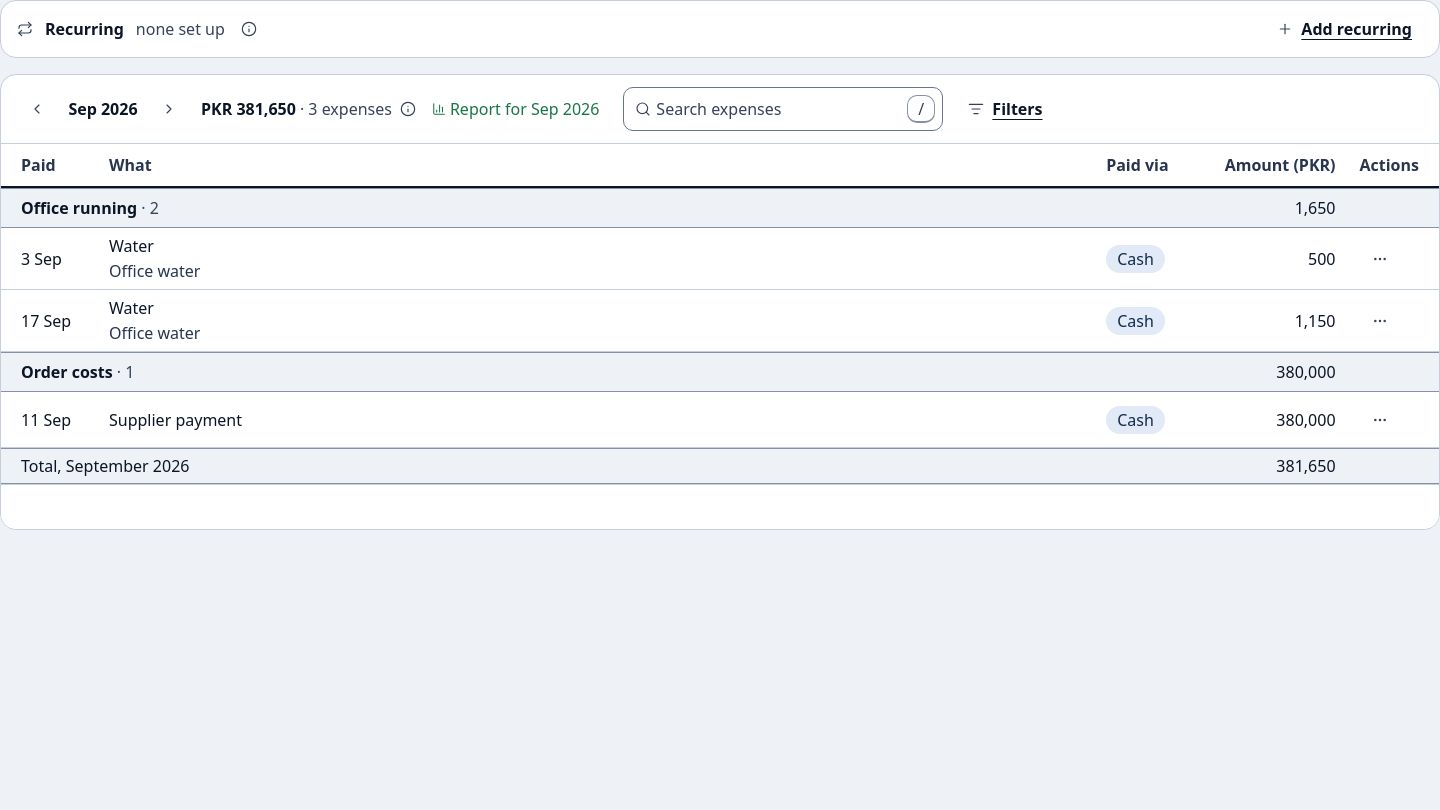
Scenario: Expenses list (0086) › a refused delete shows the server sentence and keeps the row
The width and height of the screenshot is (1440, 810).
Expected: the element with test id "expenses-month-total" is shown, [201,97,420,121]
Click the button named "More for Water of 500".
click(1380, 258)  # box [1360,238,1400,278]
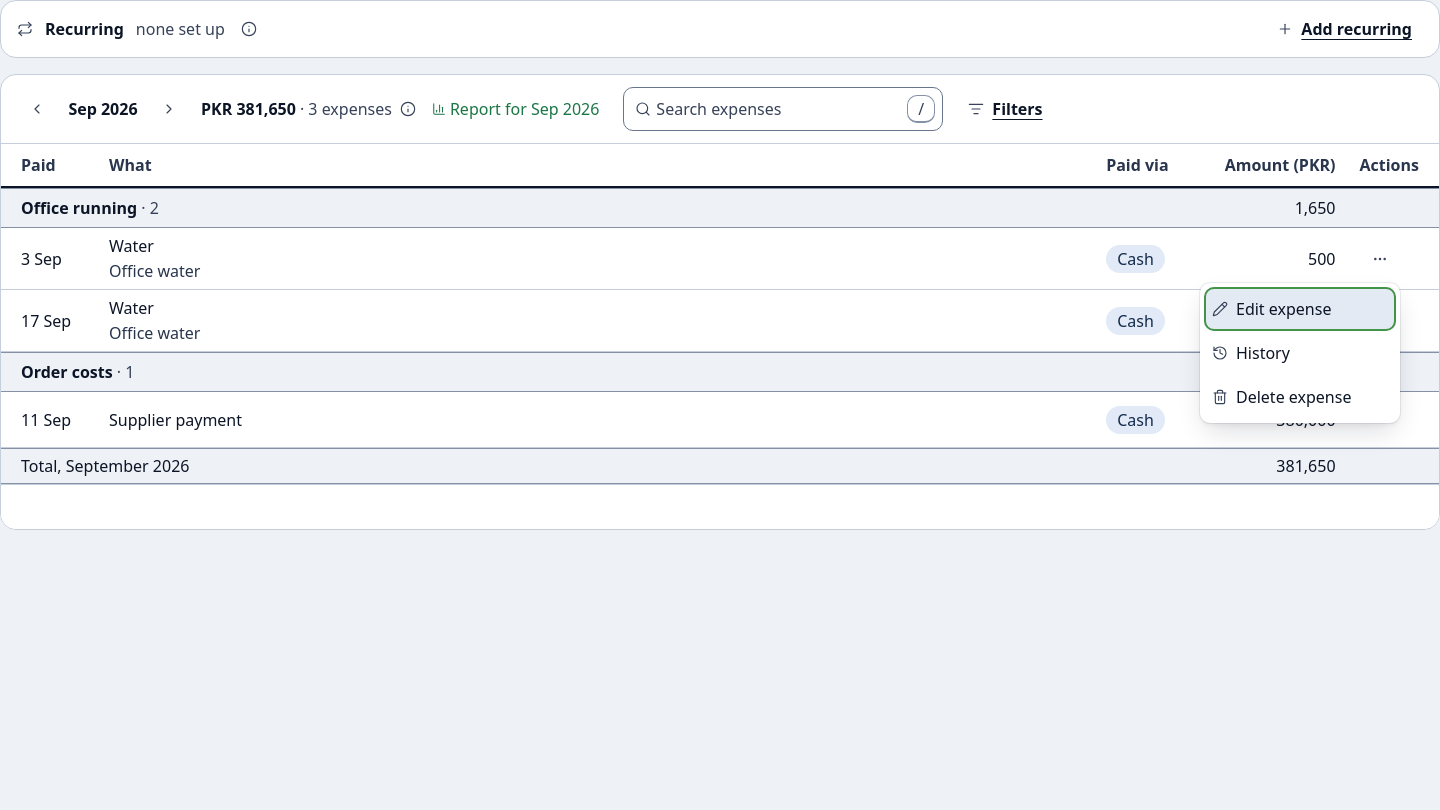
Click the menu item "Delete expense".
click(1300, 397)  # box [1204,375,1396,419]
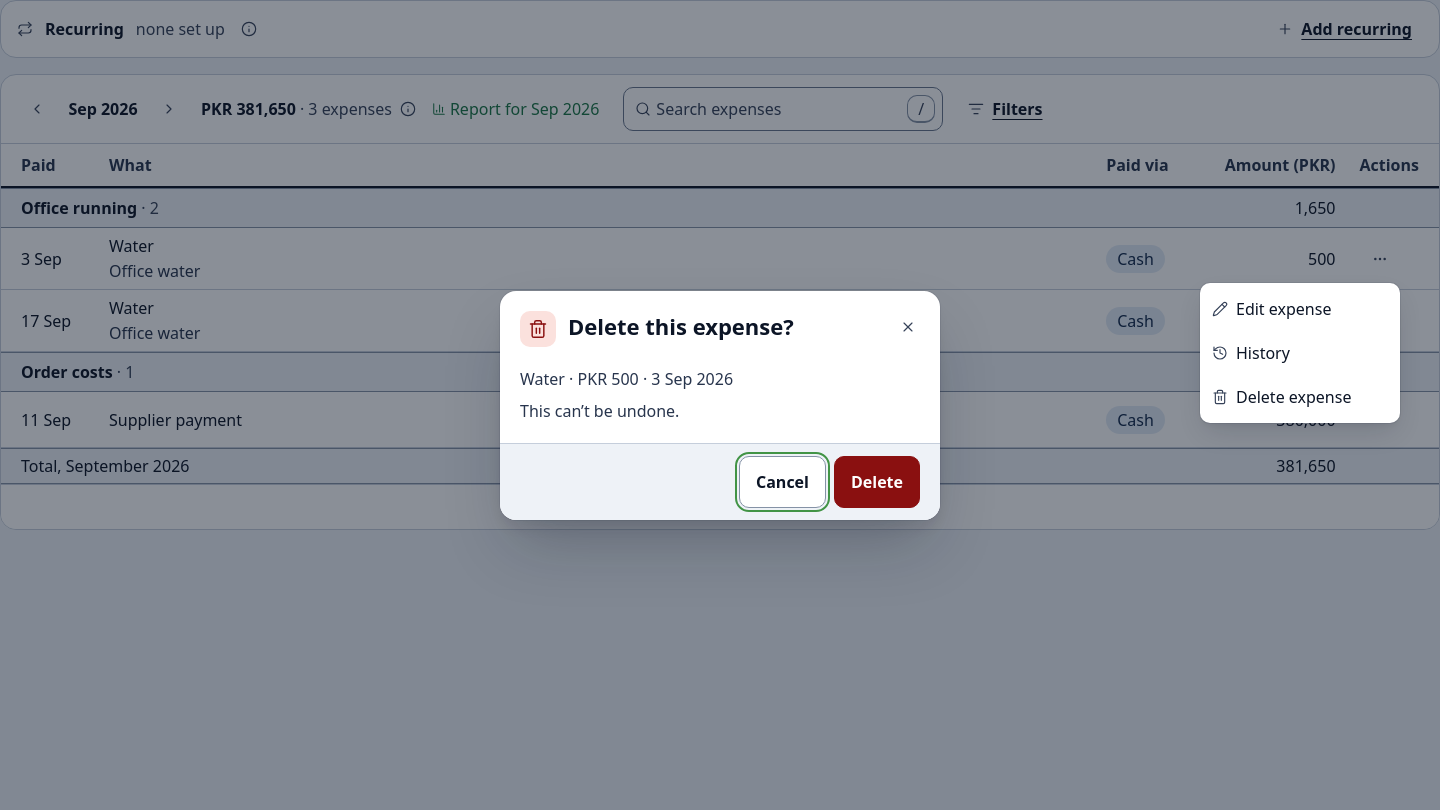
Click the button "Delete".
click(877, 482)  # box [834,456,920,508]
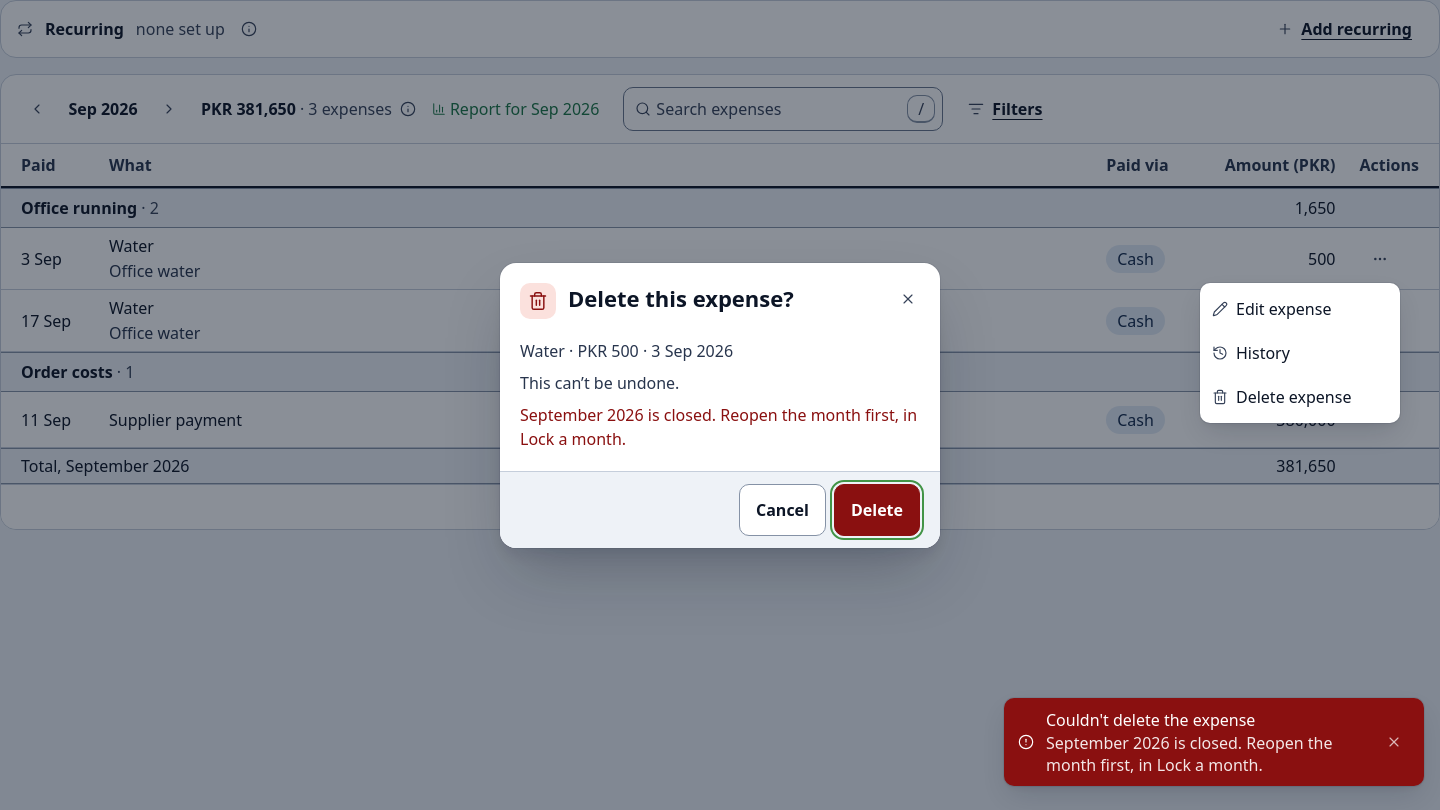
Expected: the element with test id "expenses-month-total" shows "3 expenses", [300,98,392,120]
Result: the text "September 2026 is closed. Reopen the month first, in Lock a month." is shown at [1046,732,1362,776]
